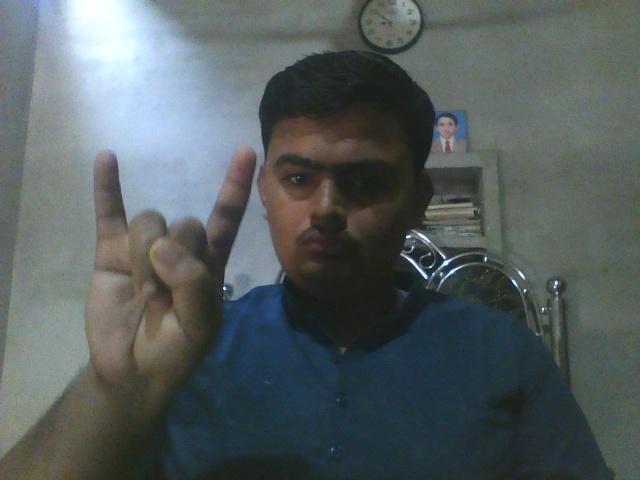No: (65, 123, 268, 416)
